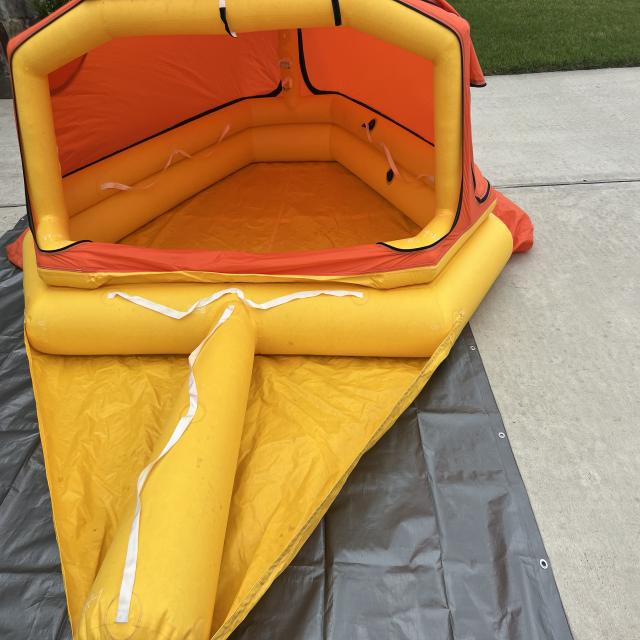Multi-person_life_raft: (5, 1, 534, 639)
